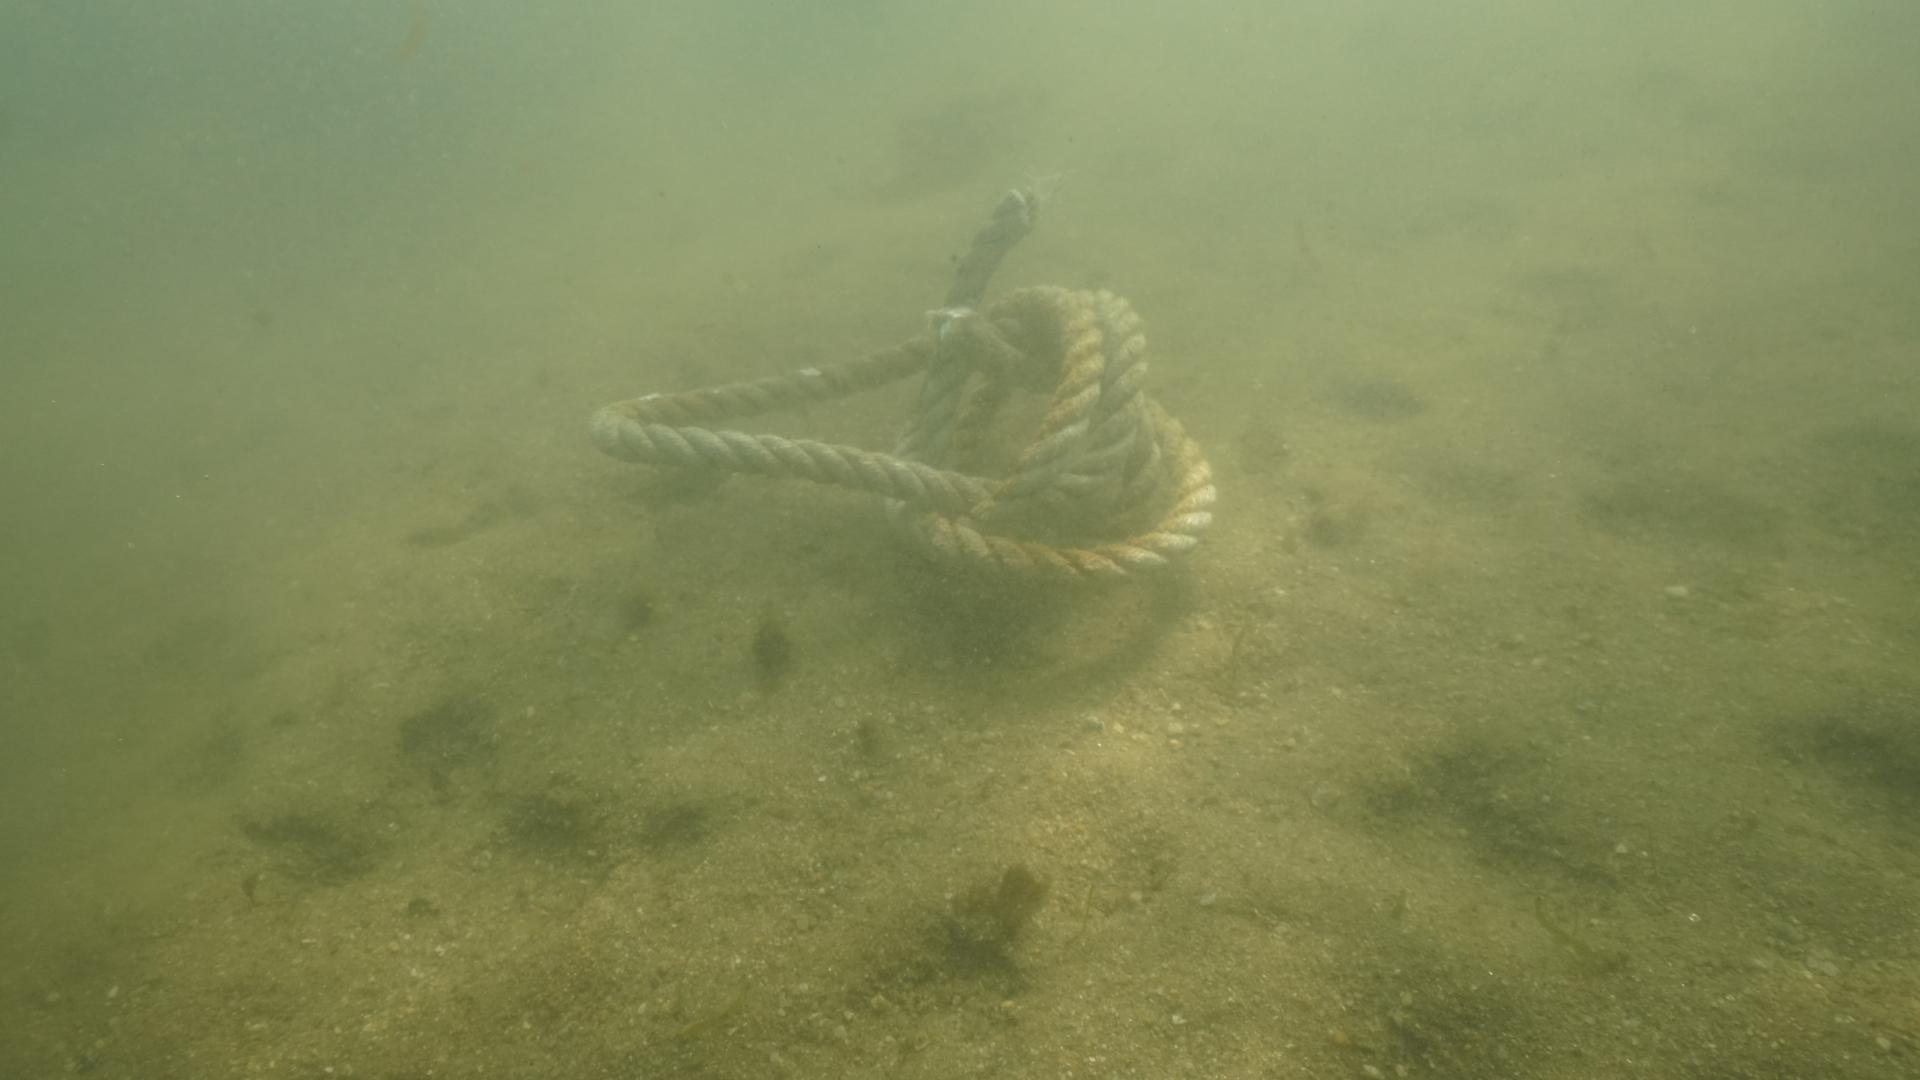bundle of ropes: (583, 215, 1222, 592)
